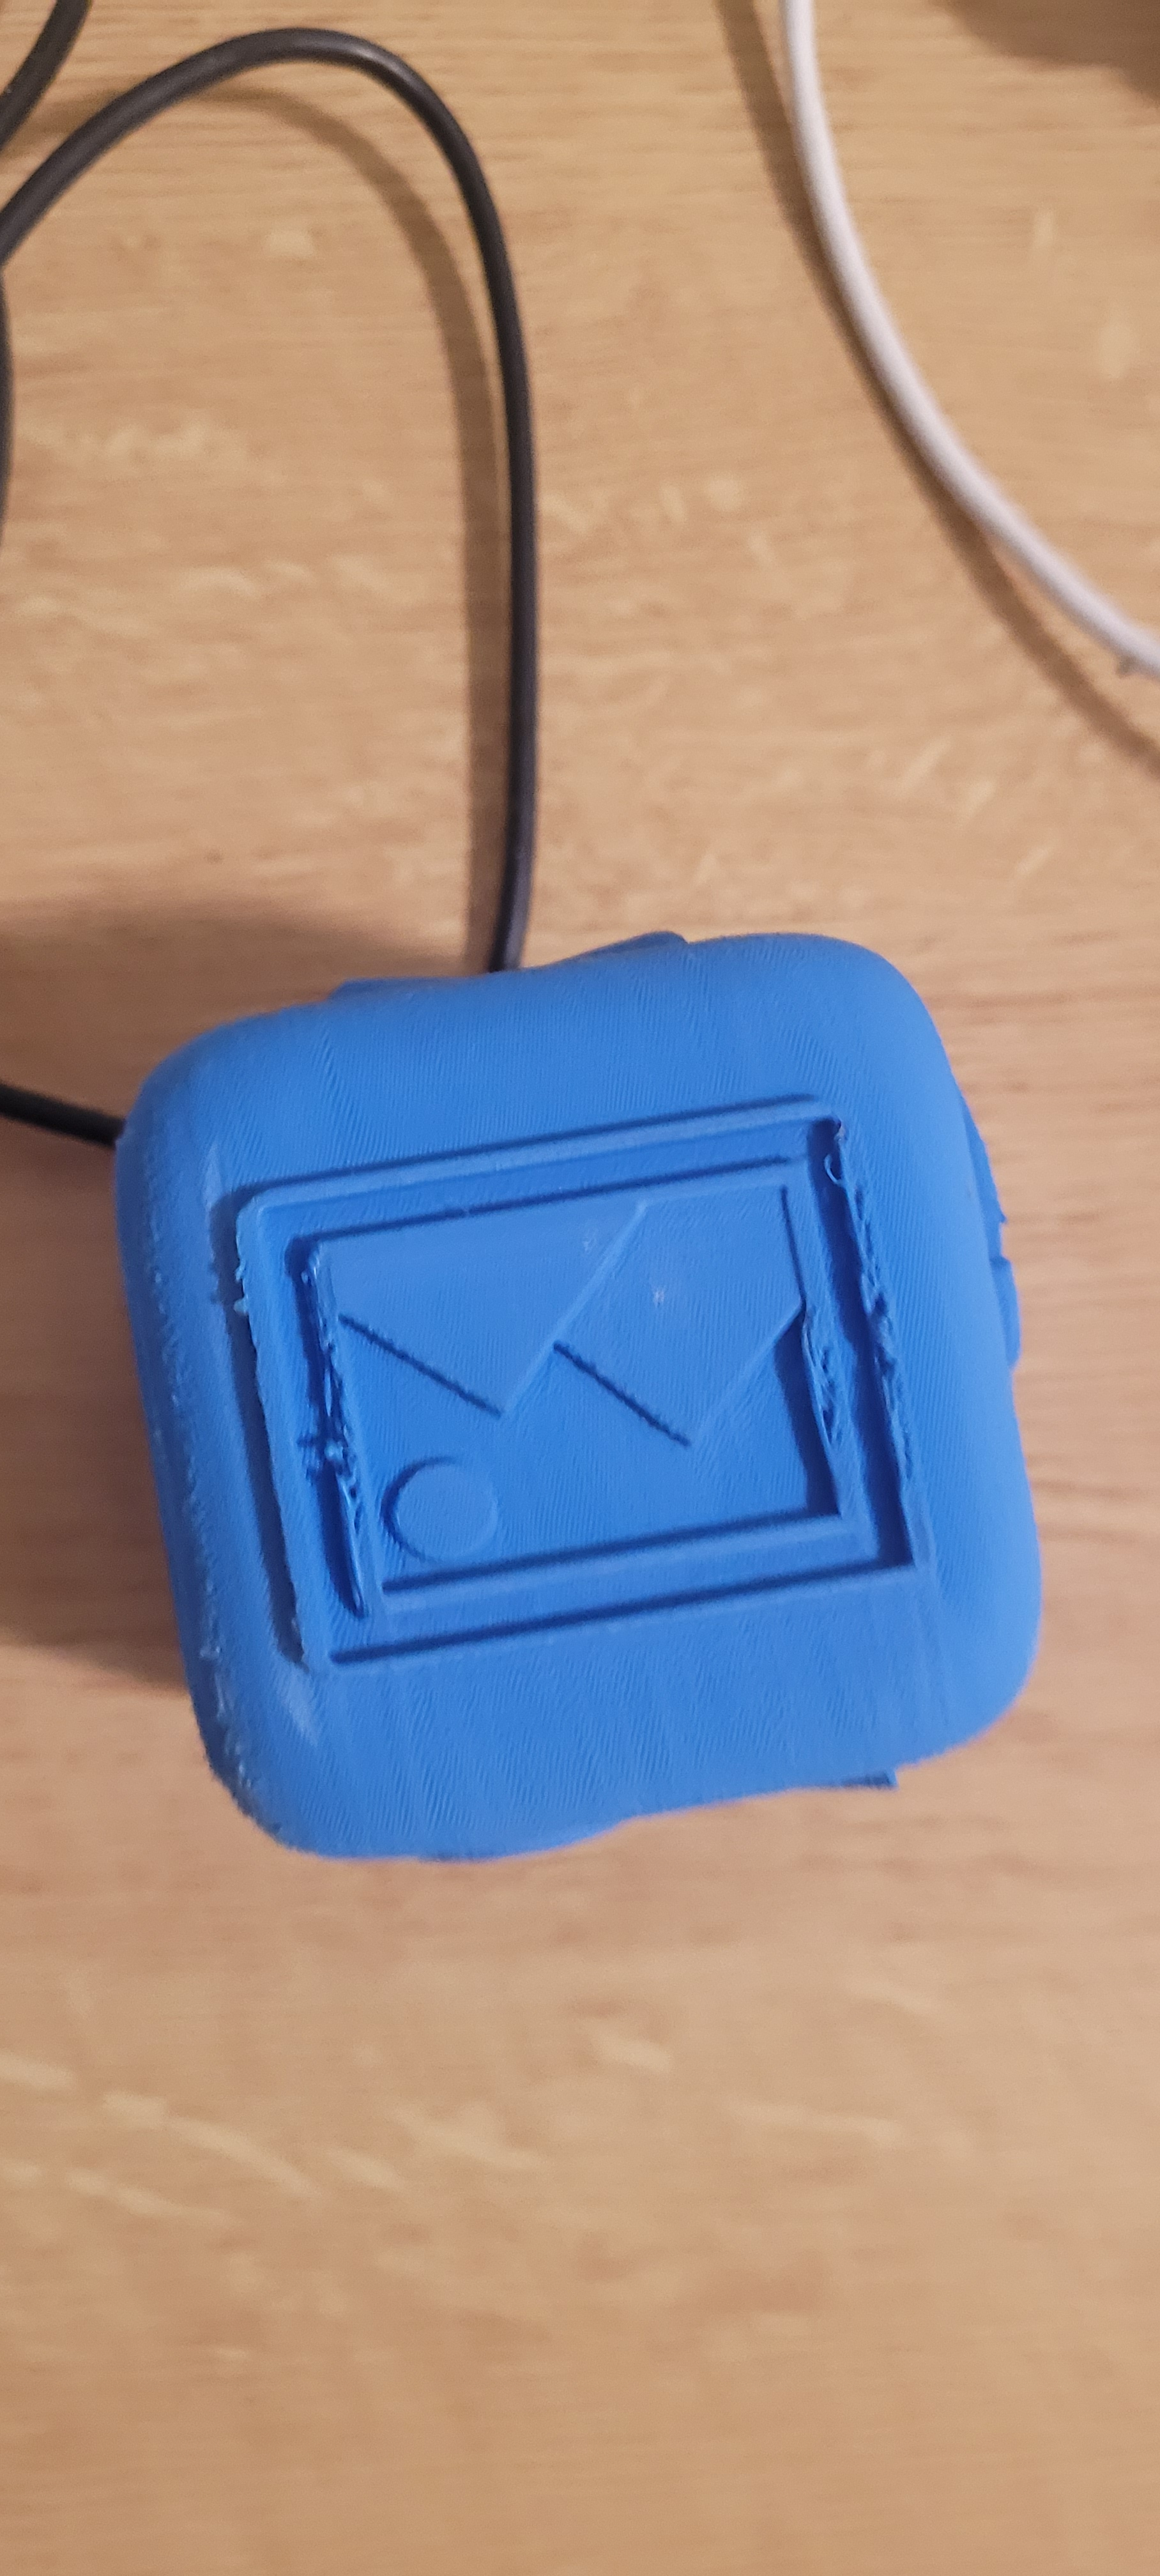Story: (138, 984, 874, 1689)
